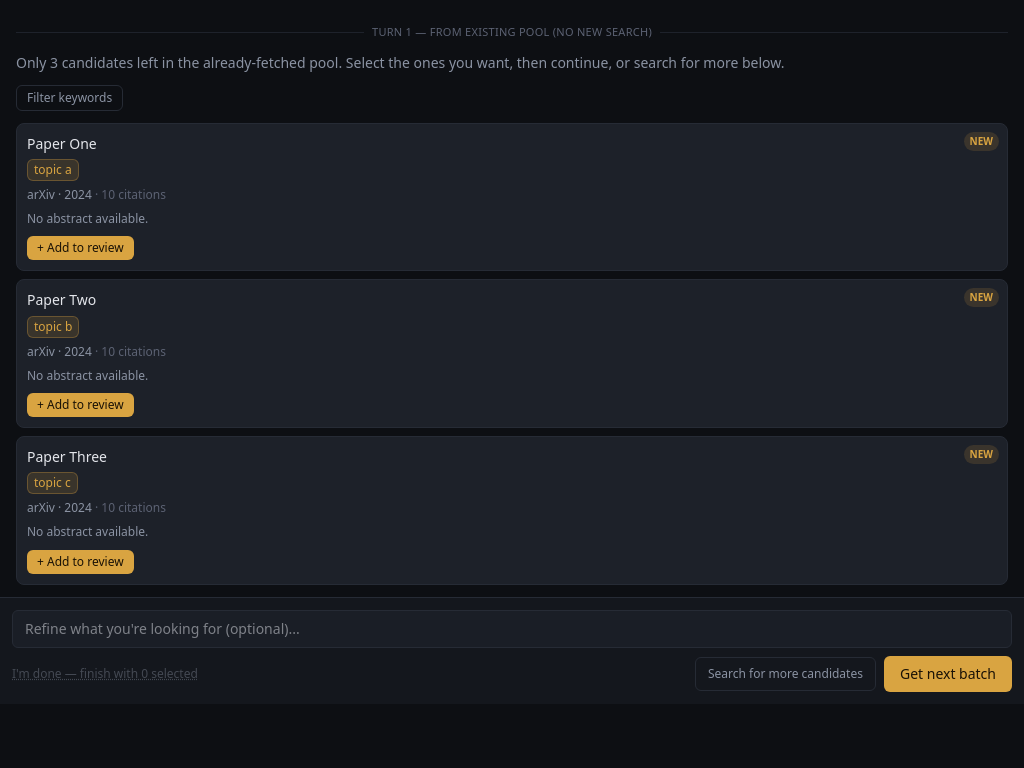
Scenario: ReviewModePanel -- Paper Keywords and Filtering, K4.2: Popular/Browse-all filter › removing one active chip updates the result, keeping any other active filter
Click the button with test id "keyword-filter-toggle".
click(70, 98)  # box [16,84,123,110]
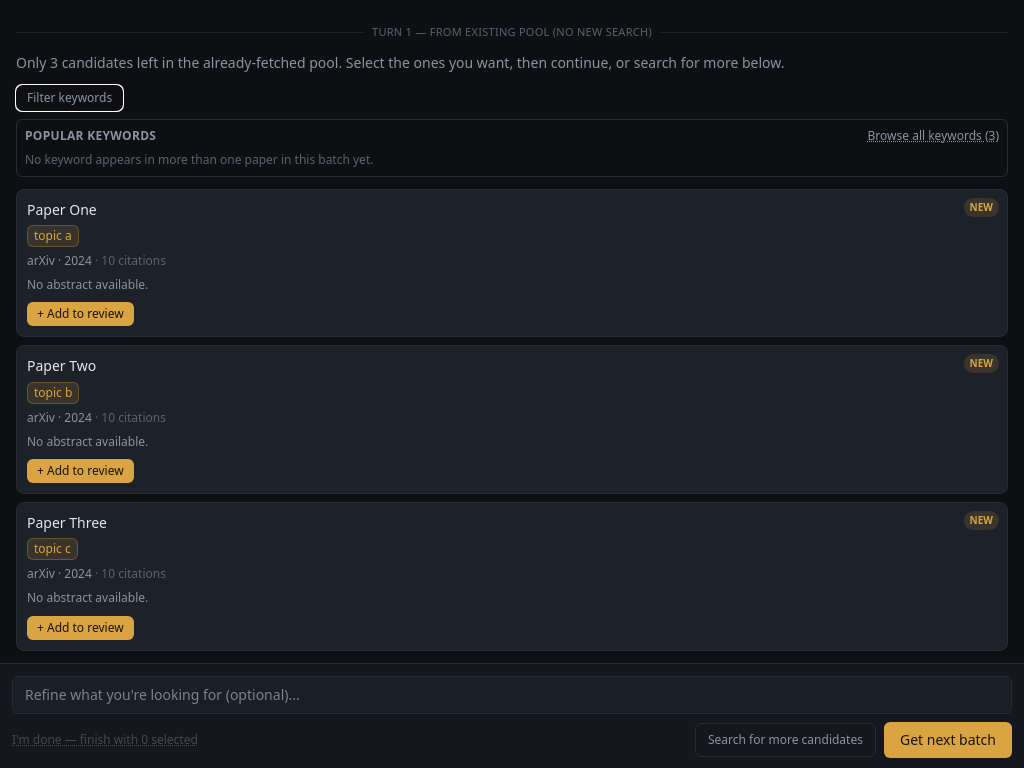
Click the button with test id "keyword-browse-all-toggle".
click(933, 136)  # box [868,128,999,144]
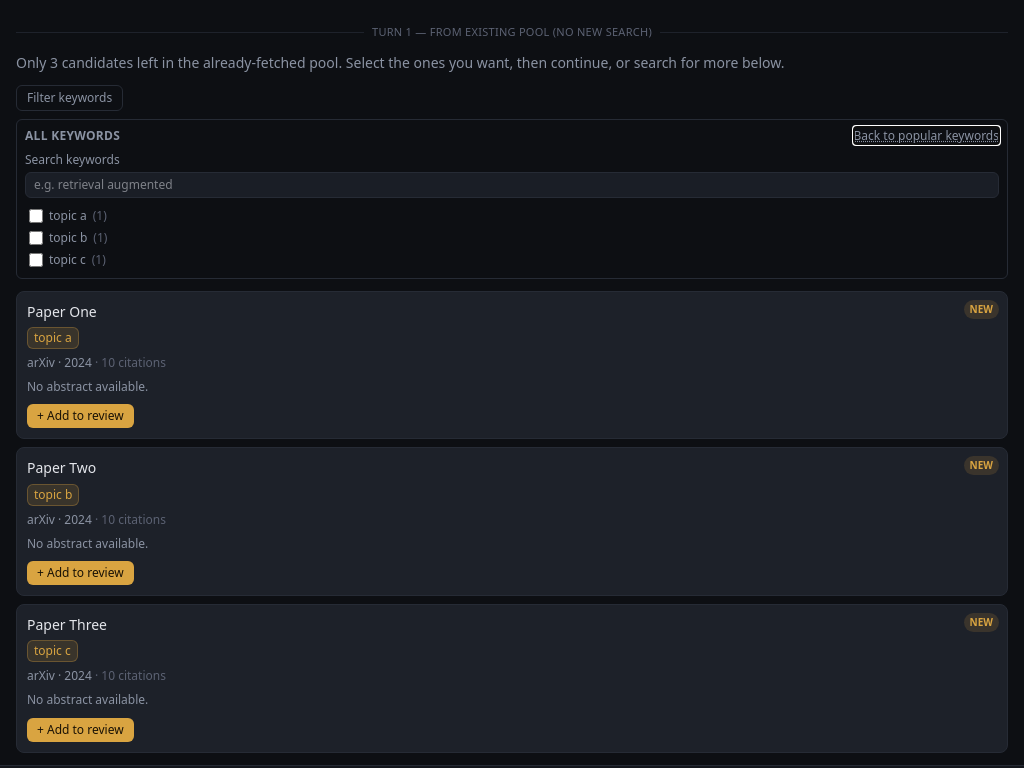
Click the checkbox labelled "topic a (1)".
click(36, 216)  # box [29,208,43,222]
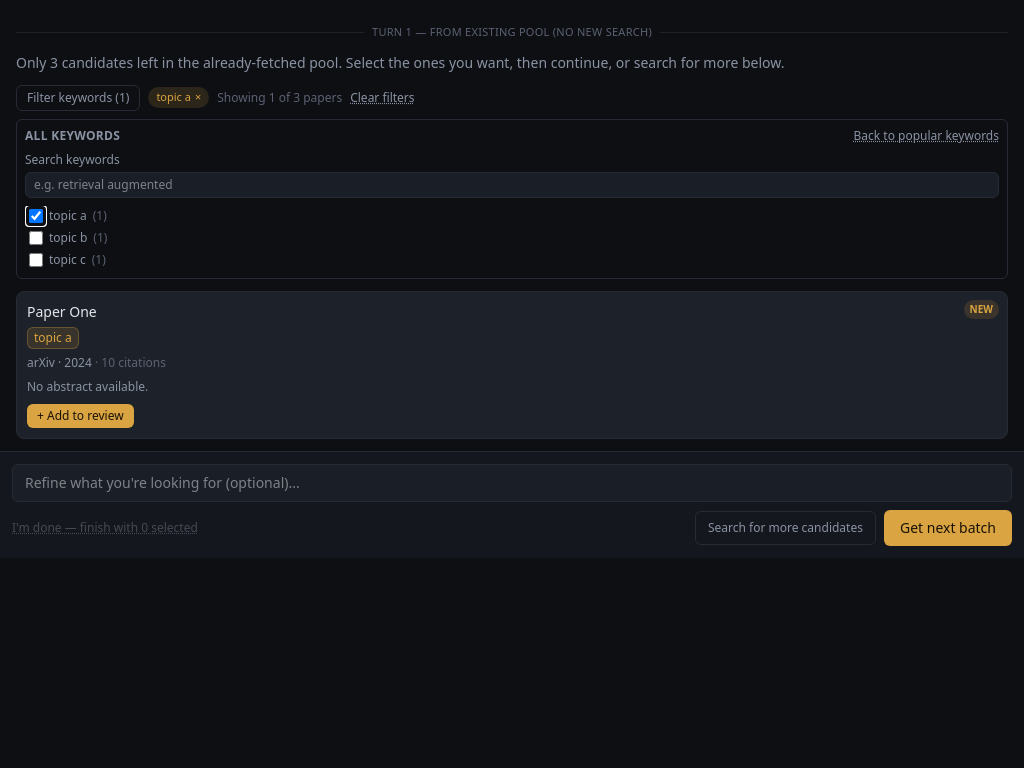
Click the checkbox labelled "topic b (1)".
click(36, 238)  # box [29,230,43,244]
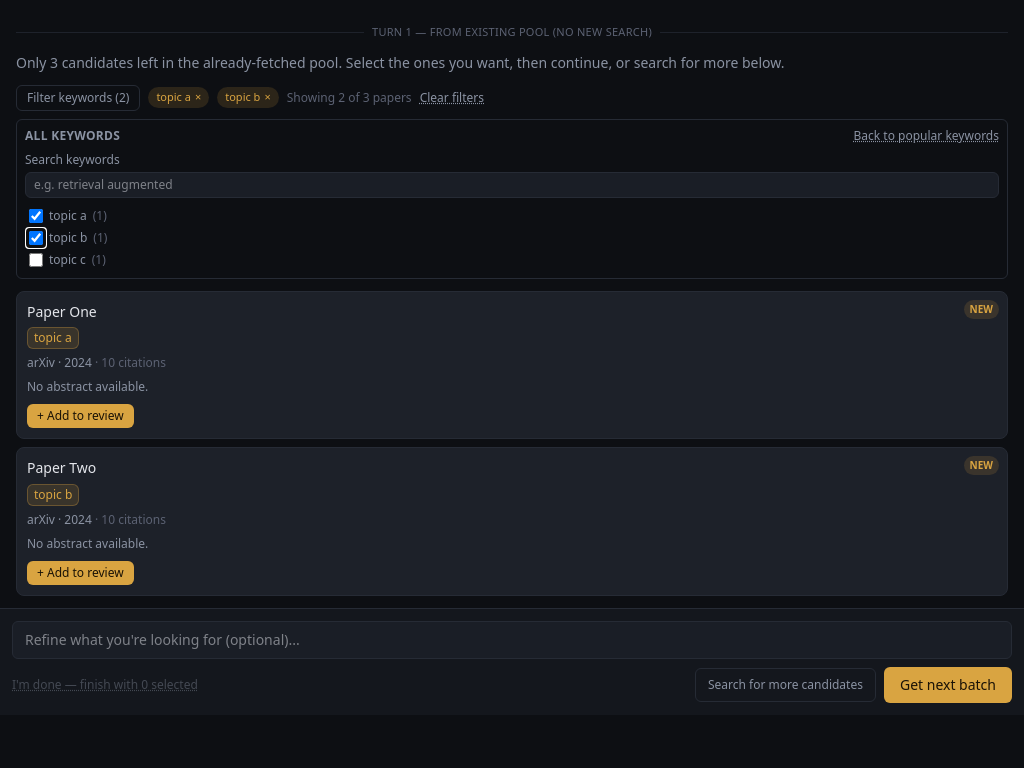
Expected: the text "Paper One" is shown, [27,302,97,320]
Now the text "Paper Two" is shown, box [27,458,96,477]
Click the button named "Remove topic a filter".
click(179, 98)  # box [148,87,209,108]
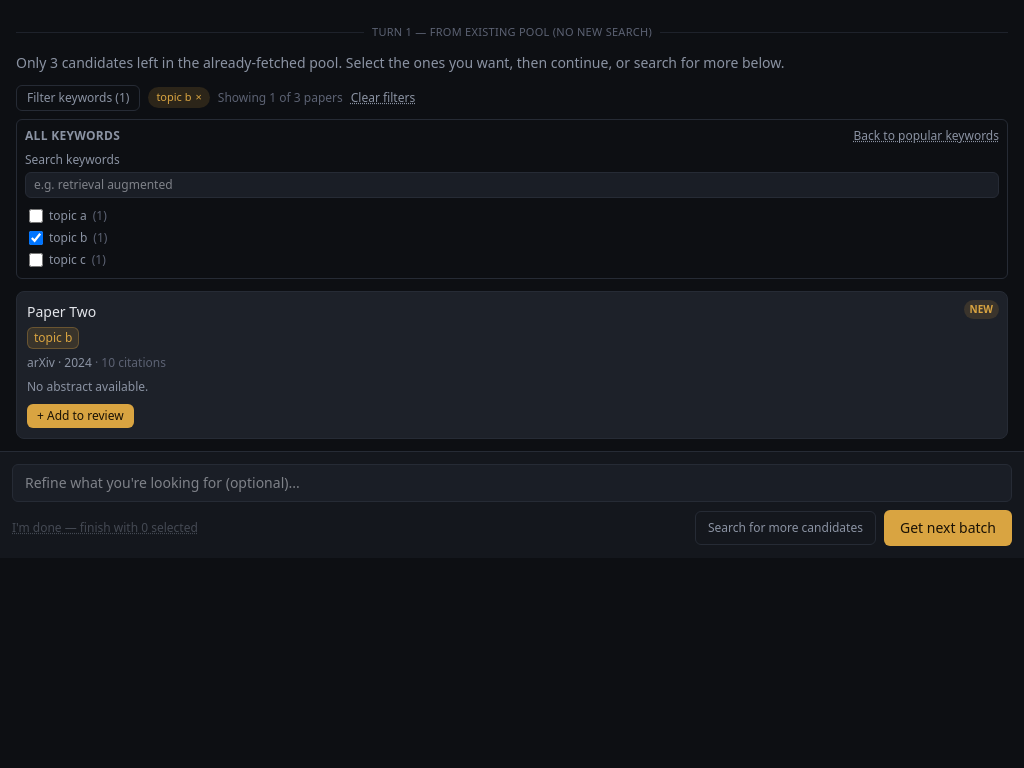
Expected: the text "Paper Three" is not shown
Now the text "Paper Two" is shown, box [27,302,96,320]
Now the text "Paper One" is gone
